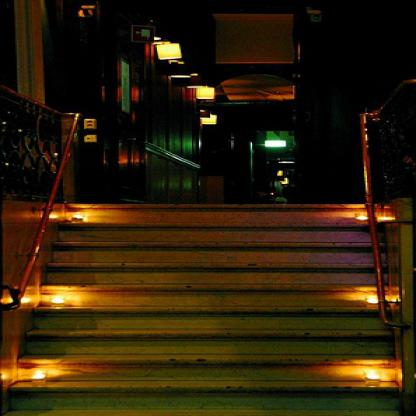stairs: (66, 203, 367, 414)
